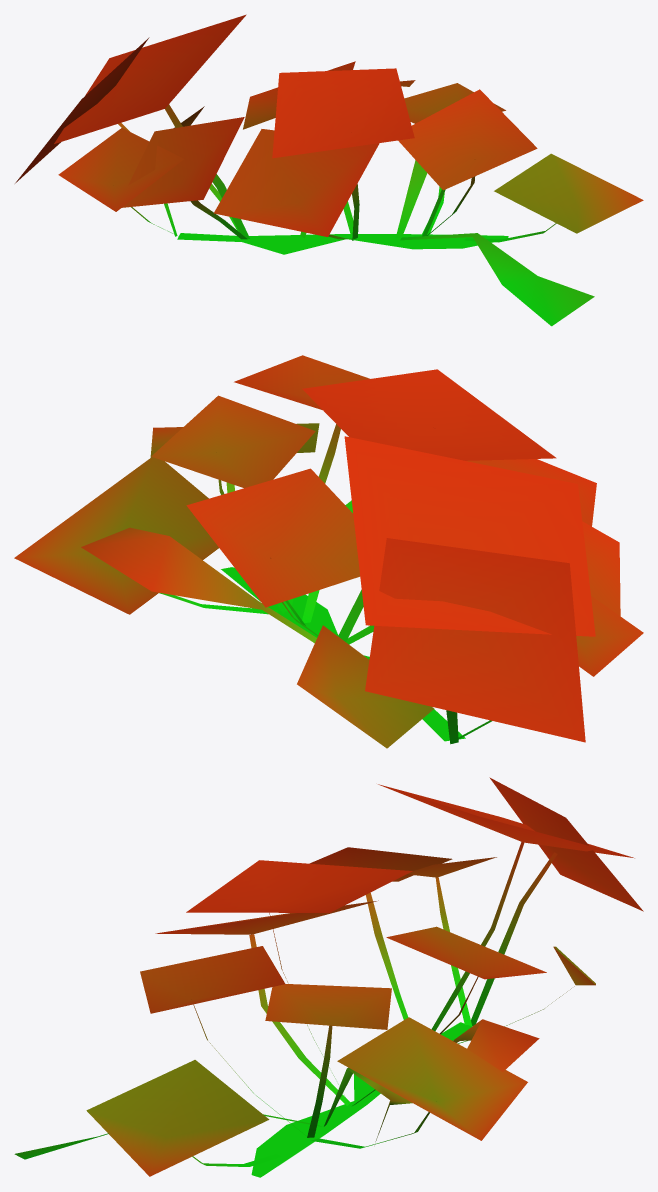
File: Var7_LOD2.fbx
3 views of the same model, one above another, from view 1: azimuth 30°, elevation 25°; view 2: azimuth 150°, elevation 25°; view 3: azimuth 270°, elevation 25° (orthographic). The views are drawn at different scales.
Visible parts, largest first — view 1: Var7_LOD2; view 2: Var7_LOD2; view 3: Var7_LOD2.
Boxes of the visible parts, <box> form: Var7_LOD2: <box>15,14,643,326</box>; Var7_LOD2: <box>14,355,643,748</box>; Var7_LOD2: <box>14,777,643,1177</box>.
Size of the model in its own units: 37.37 by 16.07 by 34.49.
